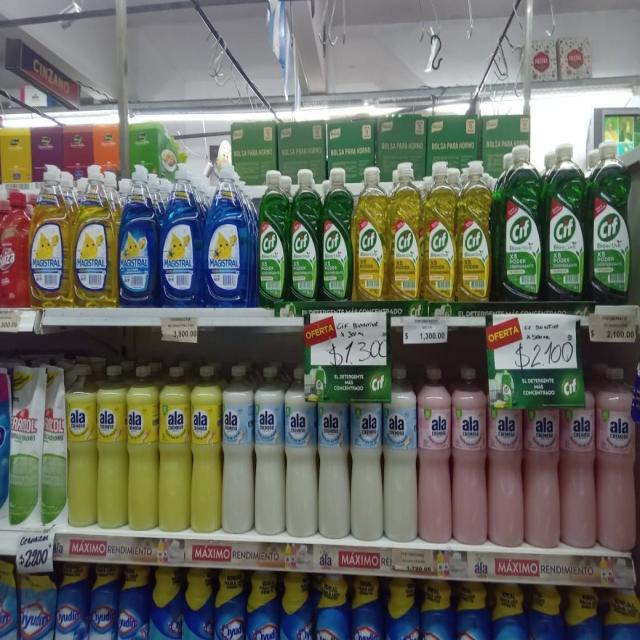ala_crem_amarillo: (158, 364, 190, 534), (191, 364, 221, 534), (127, 363, 157, 532), (97, 363, 126, 531), (67, 362, 96, 529)
ala_crem_blanco: (383, 364, 418, 544), (285, 364, 317, 539), (222, 363, 253, 535), (255, 363, 284, 537), (350, 390, 382, 542), (318, 391, 349, 540)
ala_crem_rosado: (596, 364, 636, 553), (452, 363, 487, 548), (488, 370, 524, 549), (560, 374, 596, 550), (418, 364, 452, 546), (524, 393, 560, 551)
cif_conc_bot_amarilla: (457, 157, 492, 302), (422, 158, 456, 302), (388, 161, 420, 301), (354, 166, 386, 301)
cif_conc_botella_verde: (496, 142, 542, 302), (588, 138, 631, 304), (544, 139, 586, 302), (321, 166, 352, 301), (258, 168, 288, 307), (290, 168, 320, 302), (632, 136, 640, 302)
magistral_con_amarillo: (74, 163, 116, 308), (30, 165, 72, 308)
magistral_con_azul: (204, 158, 254, 308), (160, 160, 202, 308), (118, 162, 158, 308)
